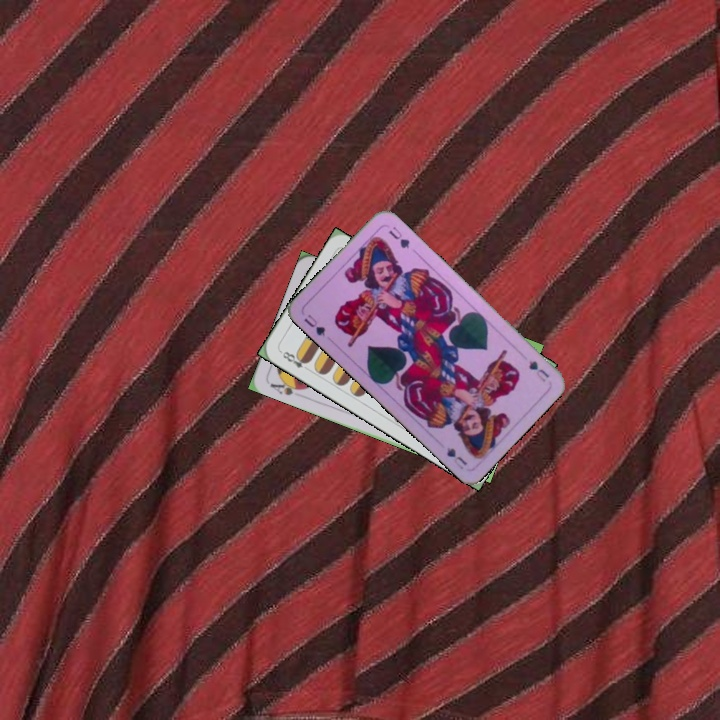E8: (276, 347, 313, 374)
GU: (300, 310, 328, 339), (525, 356, 552, 385)
SA: (266, 376, 307, 398)
